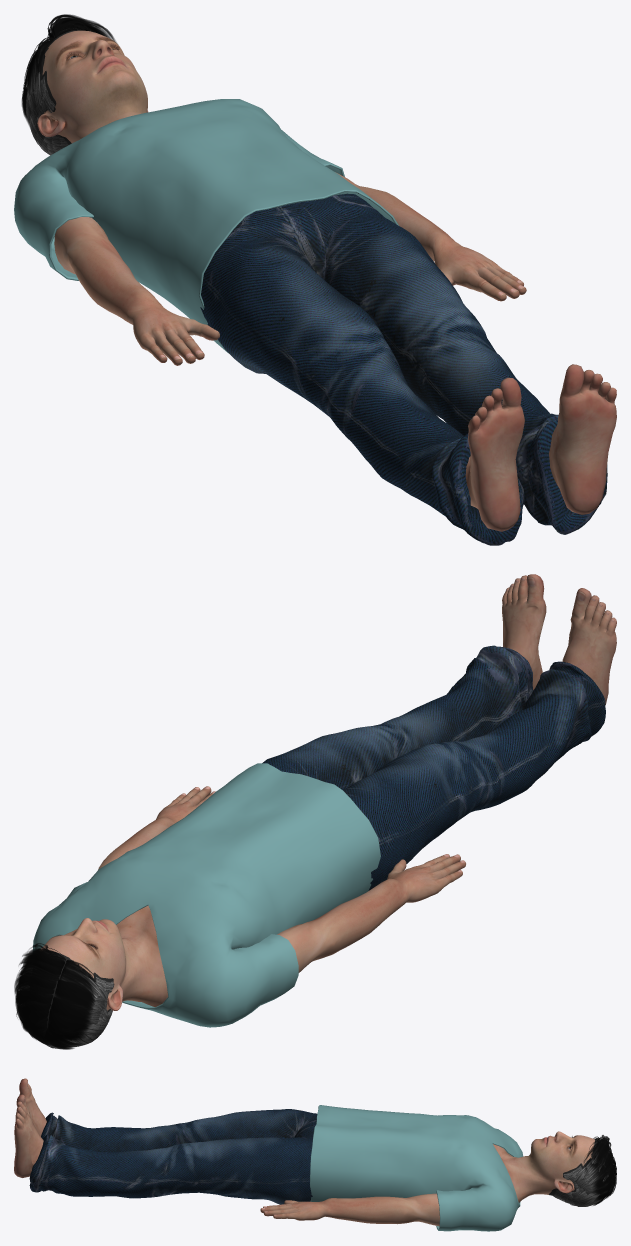
The model's file is human-patient-lying.glb.
3 renders of one model, top to bottom at view 1: azimuth 30°, elevation 25°; view 2: azimuth 150°, elevation 25°; view 3: azimuth 270°, elevation 25°, orthographic. The views are drawn at different scales.
Parts seen in each view (by area): view 1: CC_Base_Body1_Std_Skin_Arm5_0.002; view 2: CC_Base_Body1_Std_Skin_Arm5_0.002; view 3: CC_Base_Body1_Std_Skin_Arm5_0.002.
Part boxes in pixels (x1=…): CC_Base_Body1_Std_Skin_Arm5_0.002: x1=14, y1=14, x2=616, y2=545; CC_Base_Body1_Std_Skin_Arm5_0.002: x1=14, y1=574, x2=616, y2=1049; CC_Base_Body1_Std_Skin_Arm5_0.002: x1=14, y1=1078, x2=616, y2=1231.
Size of the model in its own units: 1.8 by 0.9901 by 5.02.
Materials: 15 (13 with a texture image).
